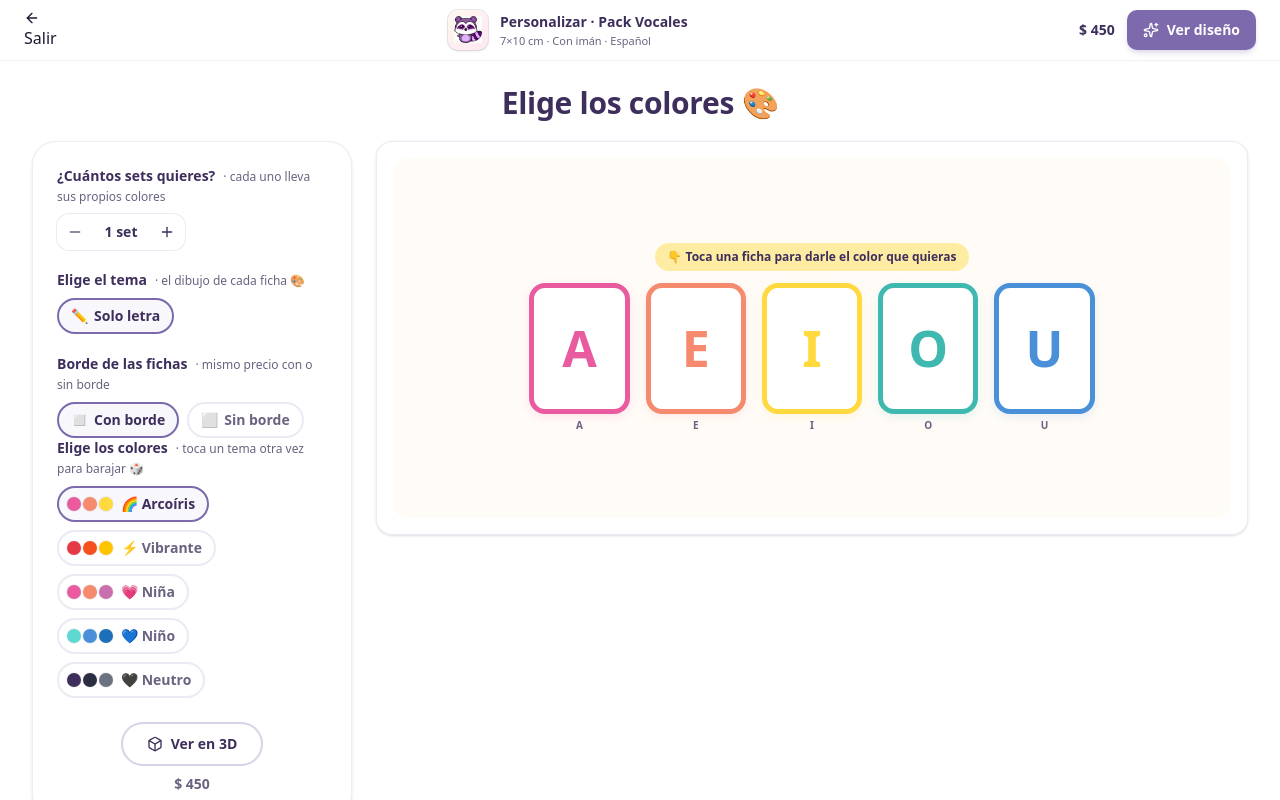
Scenario: LetterSetEditor — vista previa antes del carrito (Lucy 2026-07-25) › 'Ver diseño' abre la vista previa sin crear diseño ni tocar el carrito
Click the button "Ver diseño".
click(1191, 30)  # box [1127,10,1256,50]
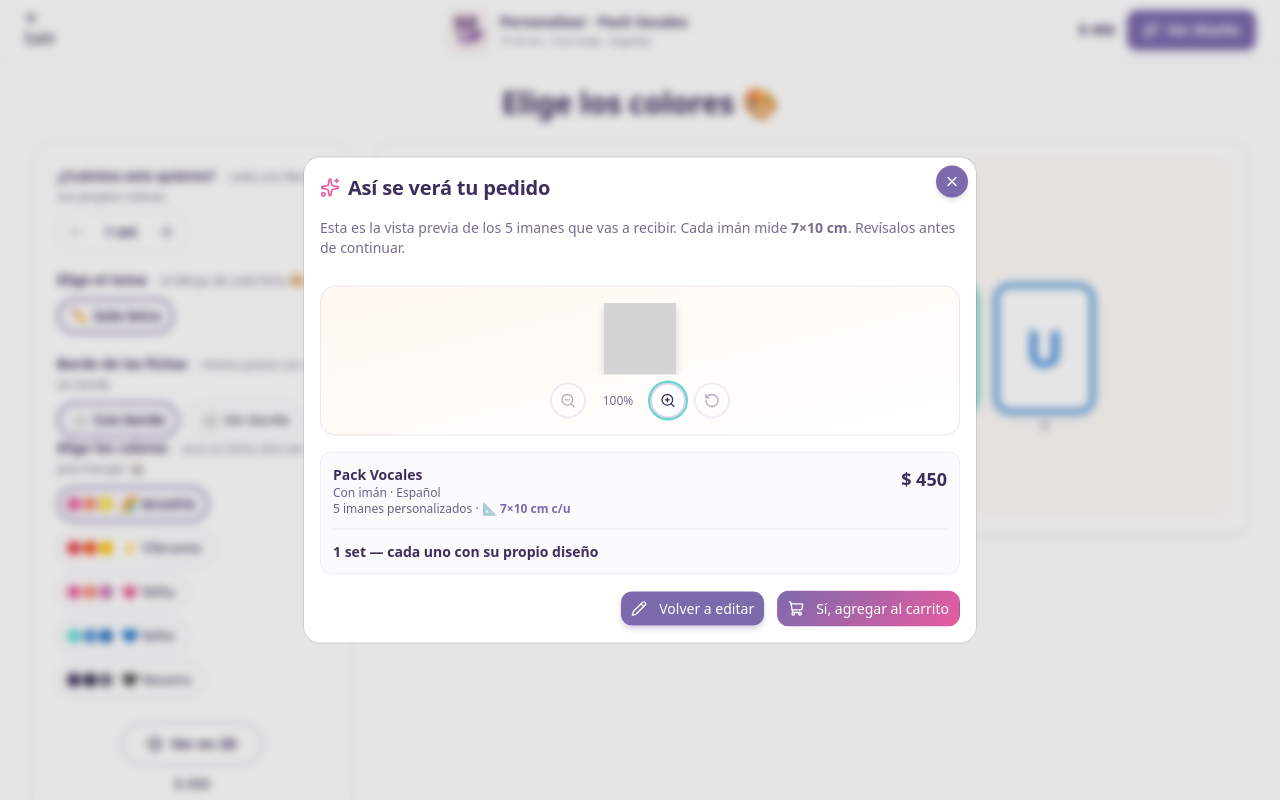
Expected: the heading "Así se verá tu pedido" is shown, [320,174,550,200]
